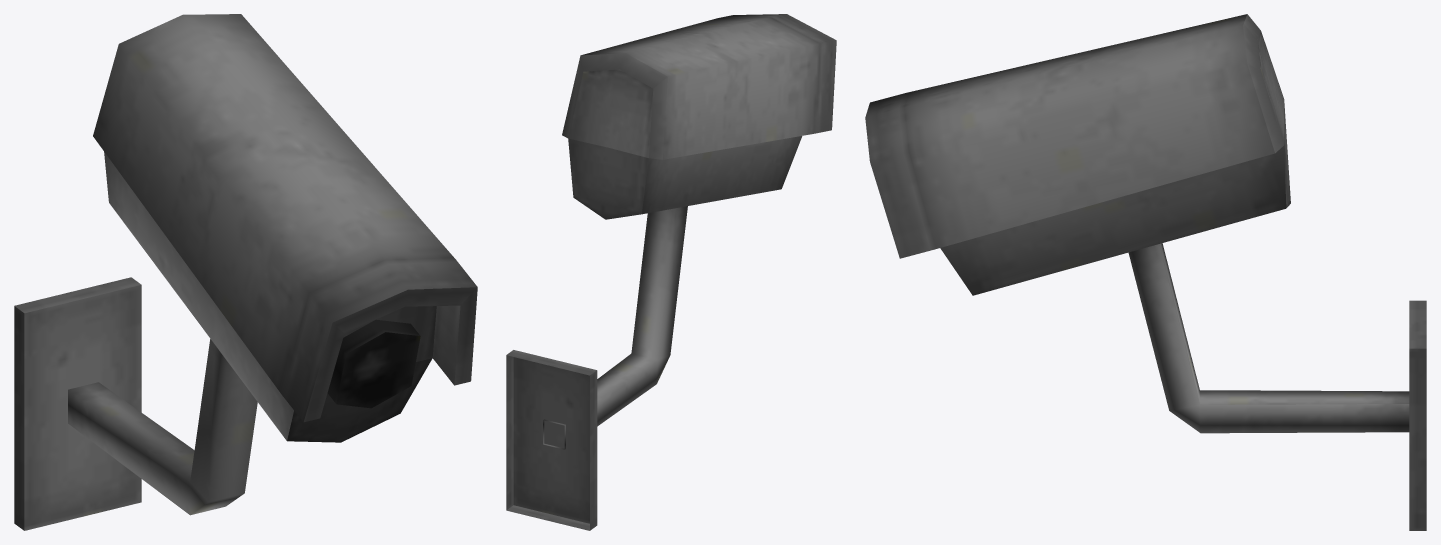
Rendered from Office_Camera.fbx.
3 renders of one model, left to right at view 1: azimuth 30°, elevation 25°; view 2: azimuth 150°, elevation 25°; view 3: azimuth 270°, elevation 25°, orthographic. The views are drawn at different scales.
Visible parts, largest first — view 1: Office_Camera; view 2: Office_Camera; view 3: Office_Camera.
Part boxes in pixels (bbox=[...]): Office_Camera: bbox=[14, 14, 477, 530]; Office_Camera: bbox=[506, 14, 836, 530]; Office_Camera: bbox=[865, 14, 1426, 530].
Bounding box in the file's own units: 0.2056 × 0.6739 × 0.7122.
